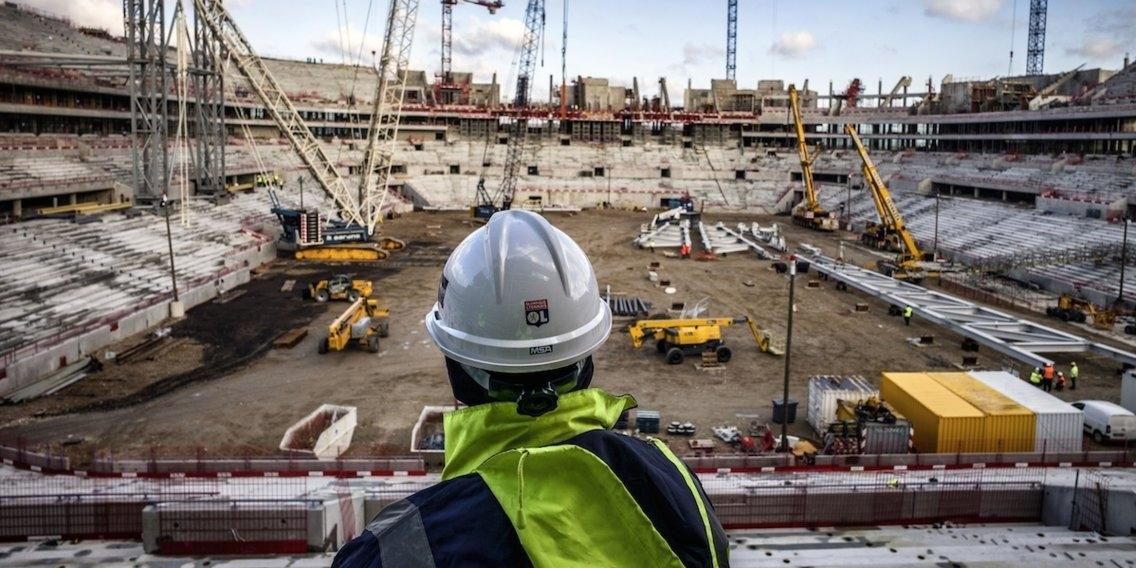helmet: (423, 210, 613, 375)
wear: (333, 428, 732, 567)
